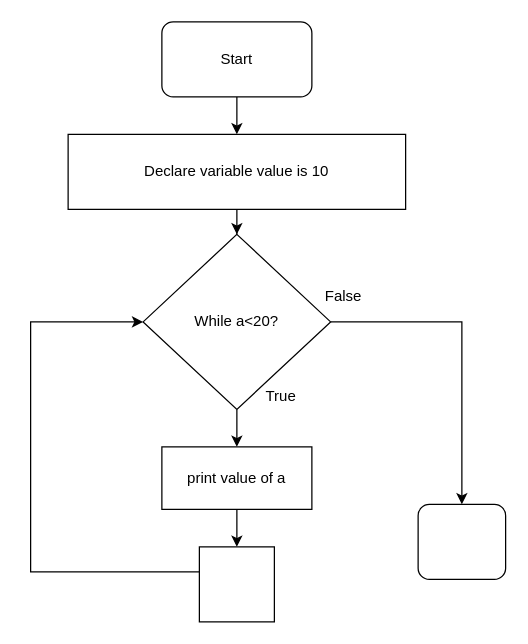
This 528x644 diagram has some shape labels left out. The centre of each missing label's shape, as x and y in pixels:
A++: the point at 236,584
End: the point at 461,541
